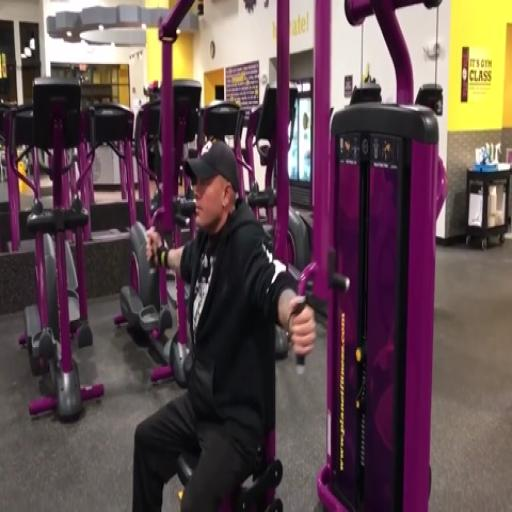exercise: (128, 138, 317, 511)
